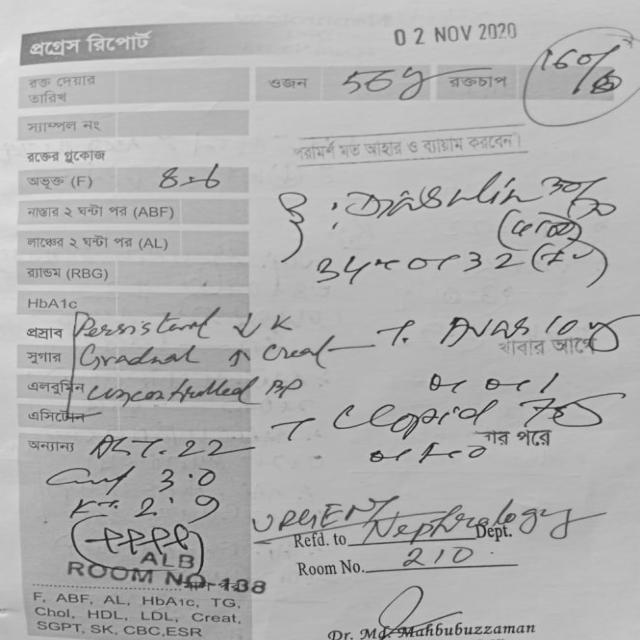Avas: (432, 309, 542, 352)
Clopid: (328, 396, 517, 439)
Diasulin: (334, 174, 543, 217)
